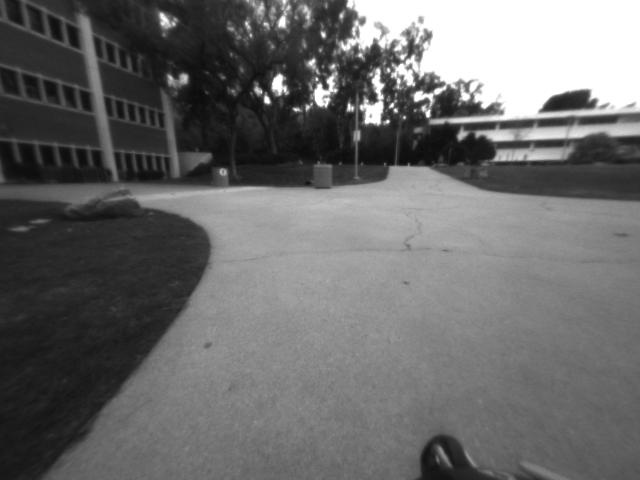trashcan: (310, 161, 336, 196), (209, 164, 232, 190)
